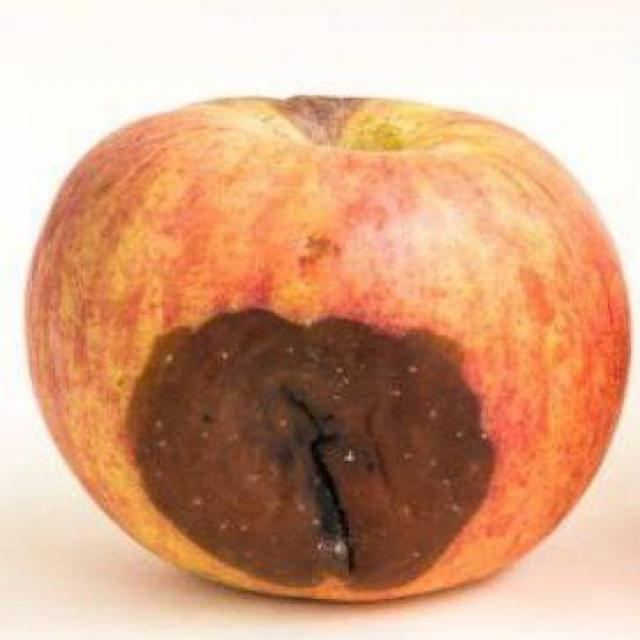Rotten: (29, 96, 638, 586)
